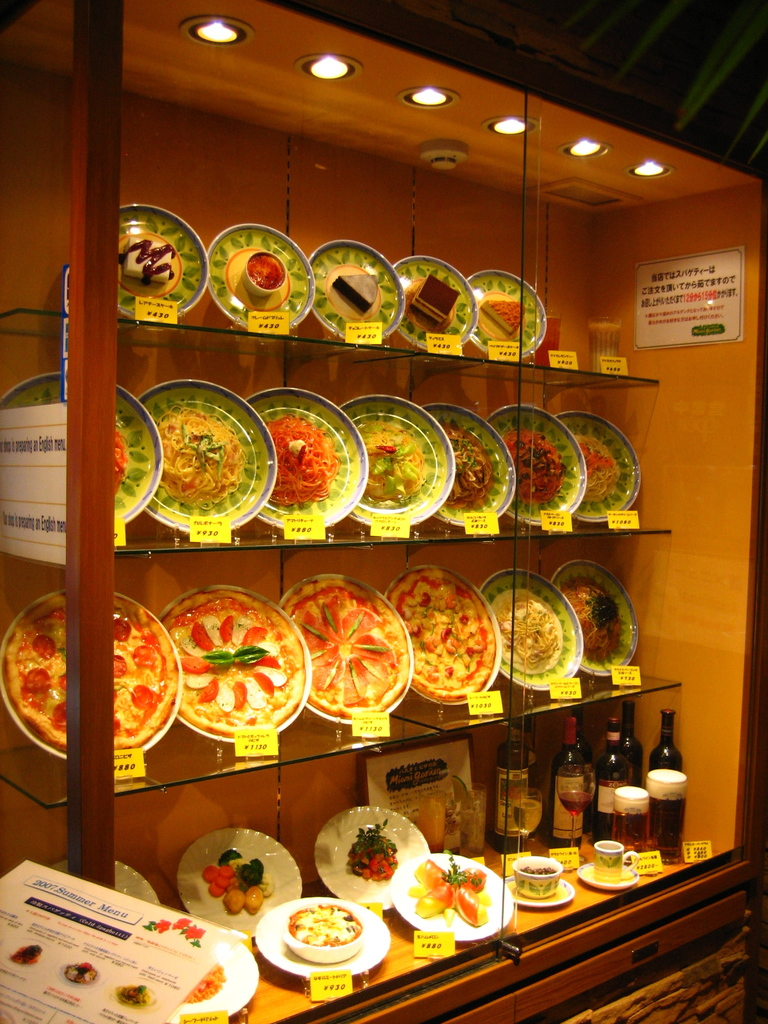Pizza: (2, 587, 191, 758), (154, 586, 309, 749), (275, 574, 401, 723), (384, 566, 499, 697), (152, 407, 250, 512), (257, 403, 352, 510), (564, 574, 644, 671), (488, 592, 569, 679), (503, 424, 576, 503), (369, 414, 434, 501), (438, 419, 494, 519), (577, 435, 632, 504)
